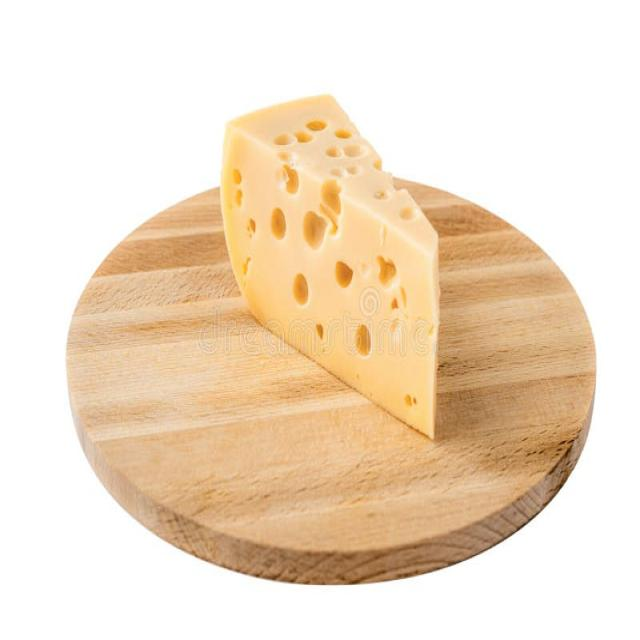Cheese: (211, 96, 450, 453)
